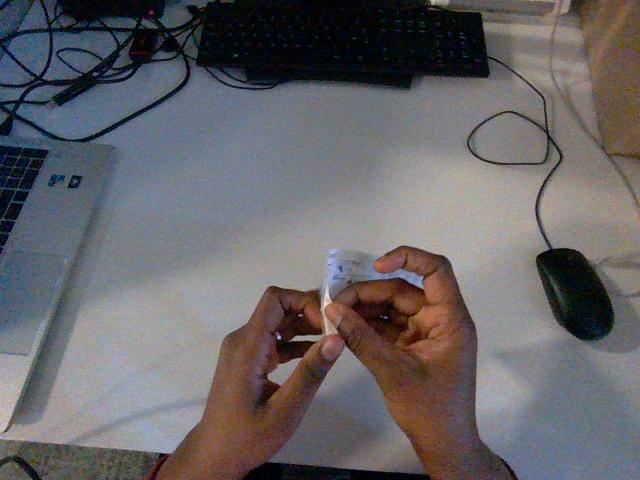syringe: (320, 249, 419, 334)
